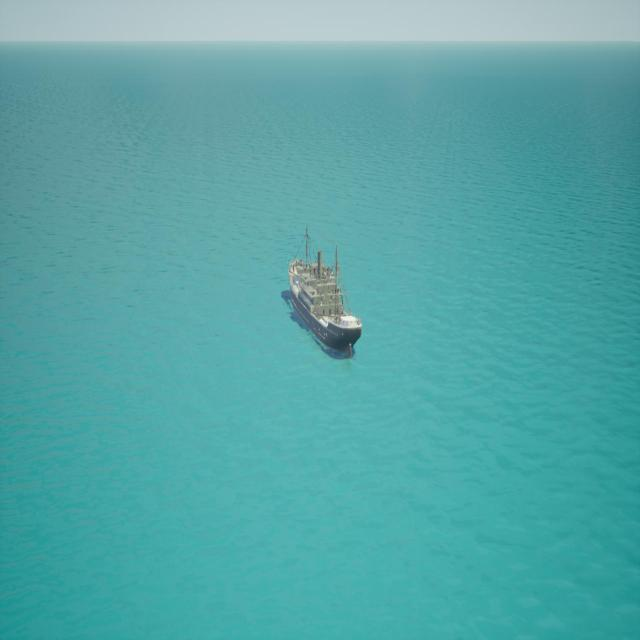fishing ship: (284, 229, 364, 356)
